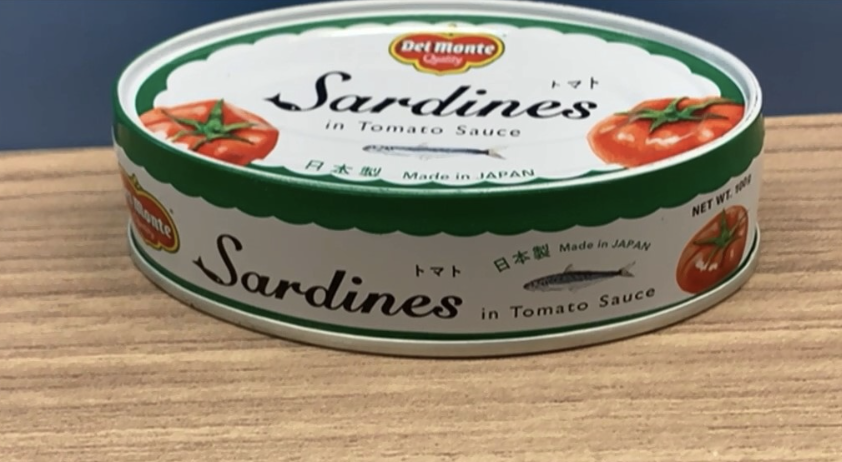sardines_100g-199g: (161, 27, 749, 303)
